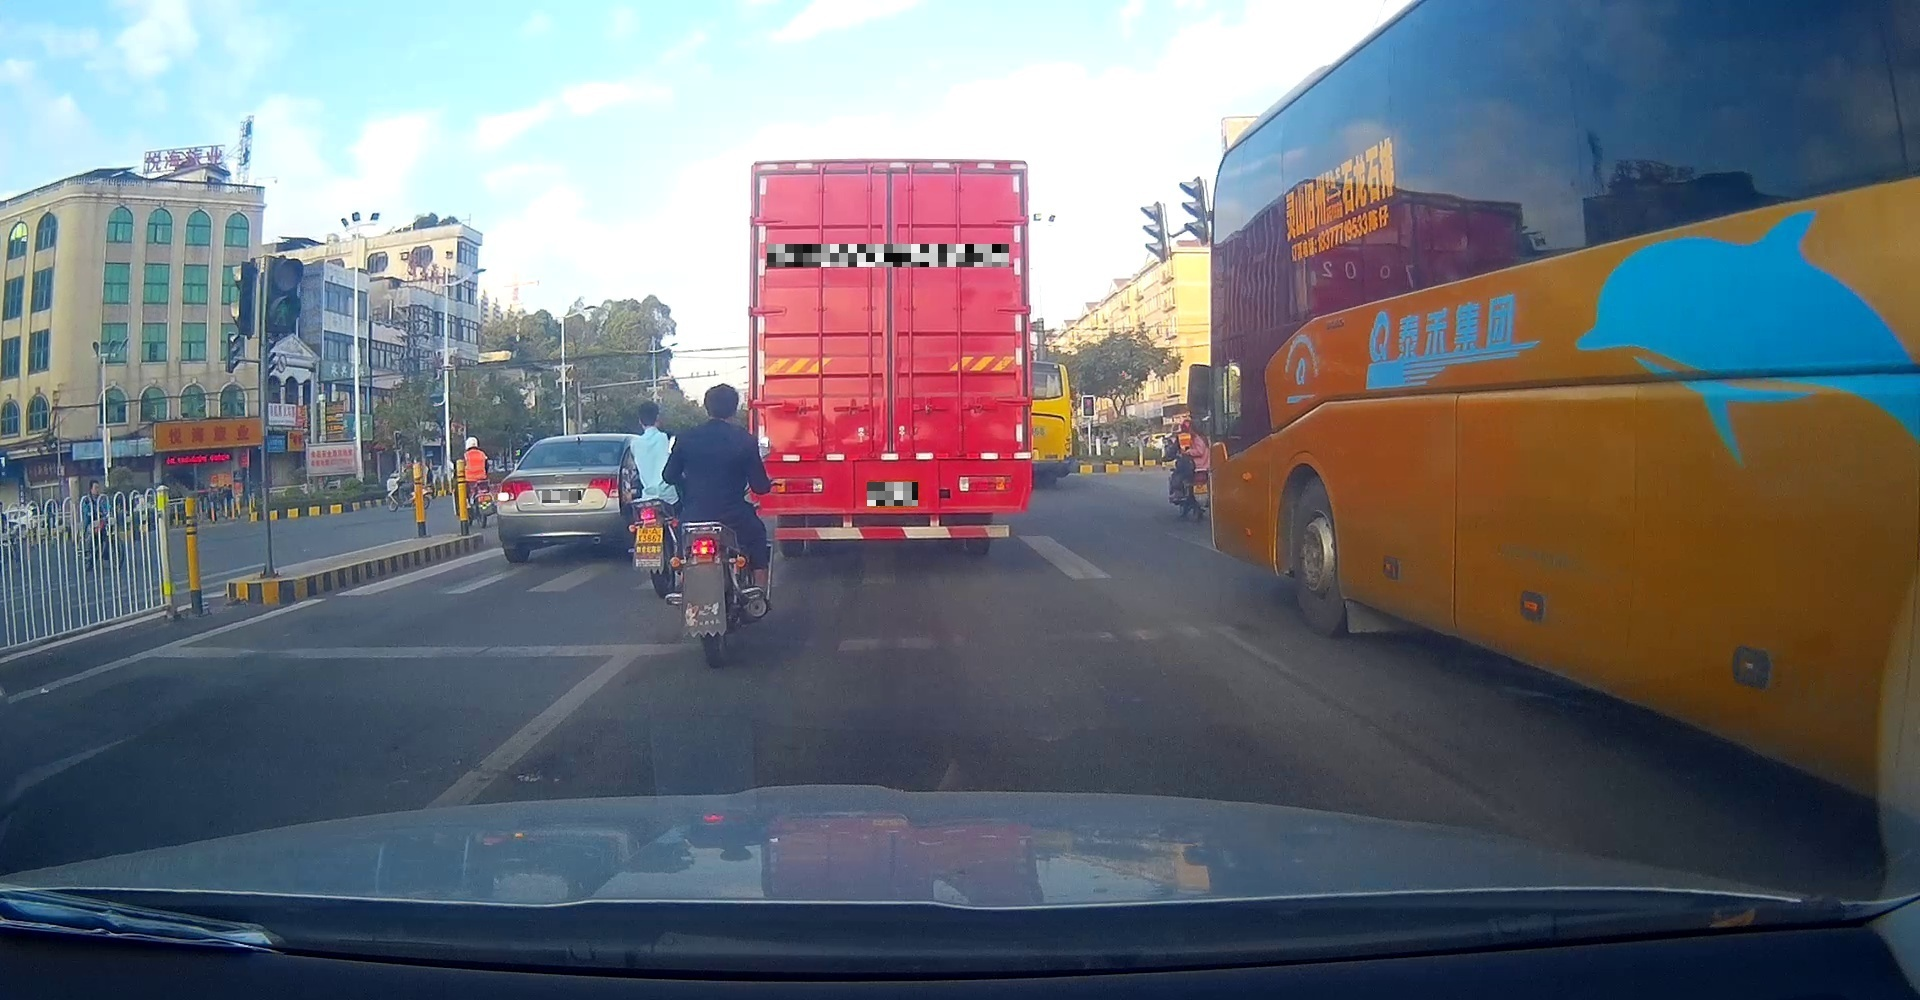L_light: (770, 477, 823, 494), (497, 482, 533, 503)
R_light: (957, 475, 1013, 492), (588, 477, 618, 497)
T_light: (865, 171, 912, 189), (568, 442, 587, 445)
day-left: (497, 433, 629, 563)
day-no: (748, 159, 1032, 558)
plate_1: (542, 491, 582, 503)
plate_2: (767, 244, 1010, 266)
plate_3: (867, 482, 918, 506)
